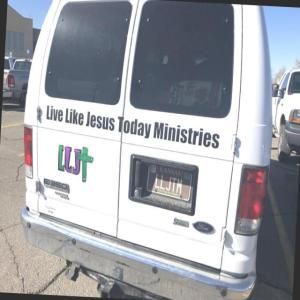Plate: (147, 163, 192, 202)
